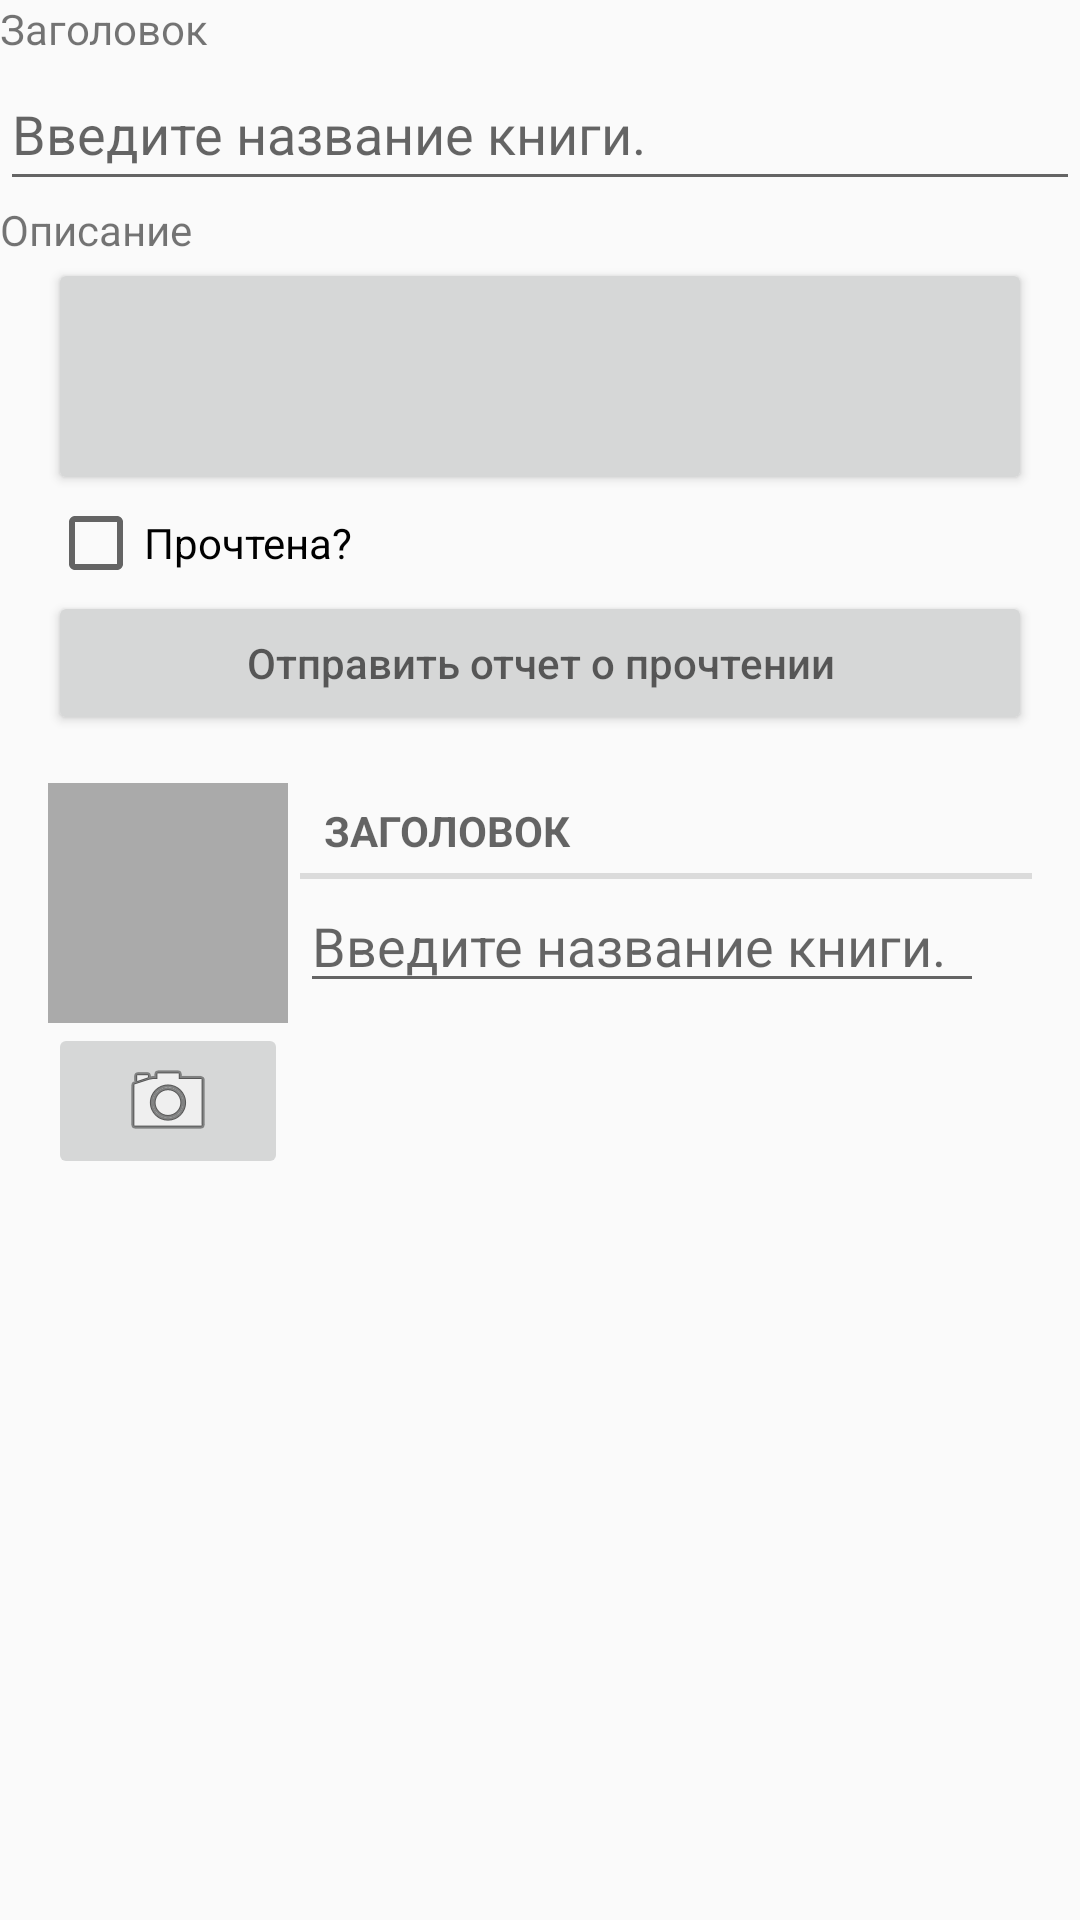

Where icons sit on this 1080w x 1920h app screen, as box(x1, y1, x2, y2):
camera: box(60, 1041, 276, 1161)
